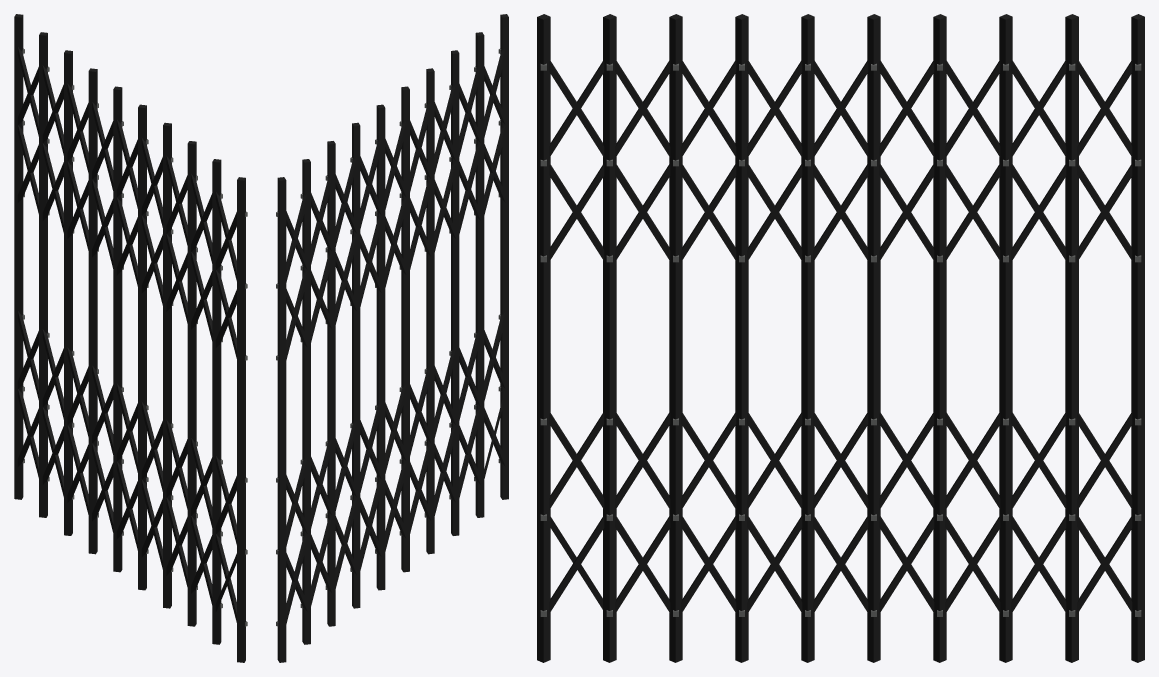
Rendered from SM_rolledBars_02.gltf.
3 renders of one model, left to right at view 1: azimuth 30°, elevation 25°; view 2: azimuth 150°, elevation 25°; view 3: azimuth 270°, elevation 25°, orthographic. The views are drawn at different scales.
Parts seen in each view (by area): view 1: SM_rolledBars_02; view 2: SM_rolledBars_02; view 3: SM_rolledBars_02.
Boxes of the visible parts, left/top/right/bottom form: SM_rolledBars_02: left=14, top=14, right=247, bottom=662; SM_rolledBars_02: left=276, top=14, right=508, bottom=662; SM_rolledBars_02: left=537, top=14, right=1144, bottom=662.
Size of the model in its own units: 0.0429 by 2.15 by 1.84.
1 material, 1 textured.
